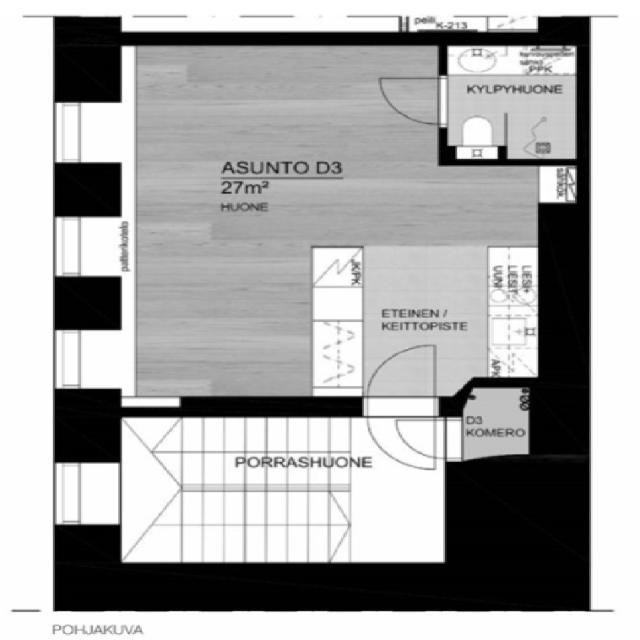door: (354, 332, 447, 483), (355, 66, 462, 134), (386, 408, 478, 464)
window: (32, 204, 107, 292), (41, 92, 100, 198), (47, 450, 118, 534), (50, 320, 92, 396)
zone: (116, 44, 436, 242), (310, 244, 540, 393), (436, 44, 582, 172), (459, 380, 533, 463)
